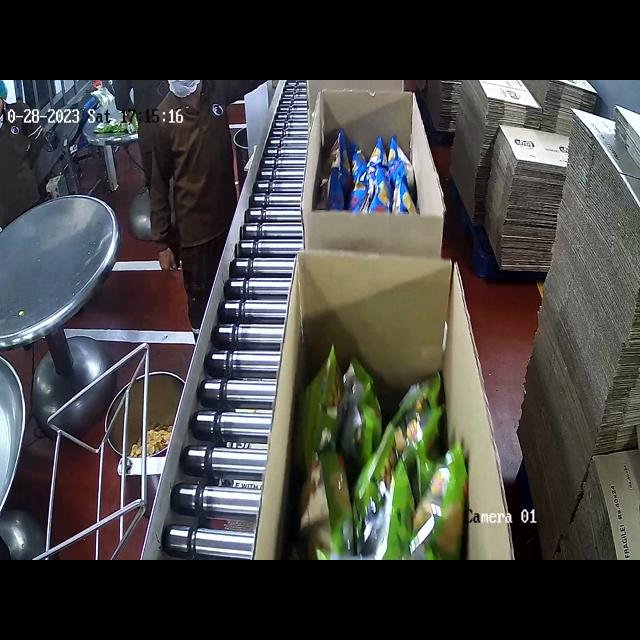paprika: (329, 127, 414, 212)
yogurt: (319, 327, 473, 560)
